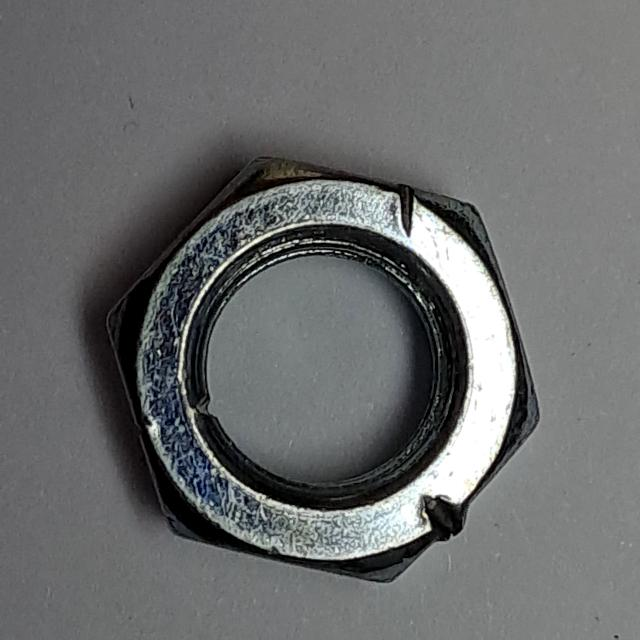Scratches: (94, 141, 550, 597)
